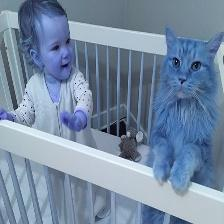kedo: (147, 27, 224, 194)
